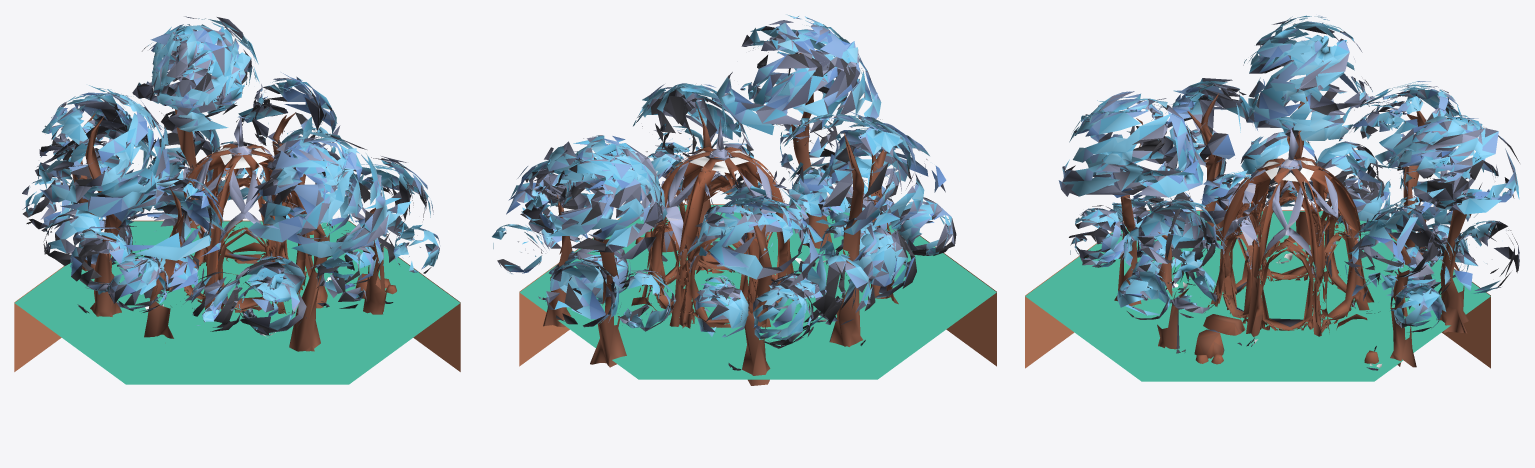
The model's file is enid-kingdom.glb.
3 renders of one model, left to right at view 1: azimuth 30°, elevation 25°; view 2: azimuth 150°, elevation 25°; view 3: azimuth 270°, elevation 25°, orthographic. The views are drawn at different scales.
Parts seen in each view (by area): view 1: world, hexBase; view 2: world, hexBase; view 3: world, hexBase.
Boxes of the visible parts, x1,y1,x2,y2 form: world: (22, 16, 439, 351); hexBase: (14, 220, 460, 384); world: (492, 14, 956, 385); hexBase: (519, 204, 996, 379); world: (1058, 15, 1519, 370); hexBase: (1025, 210, 1490, 381).
Size of the model in its own units: 1.03 by 0.7995 by 1.23.
Materials: 3 (3 with a texture image).
